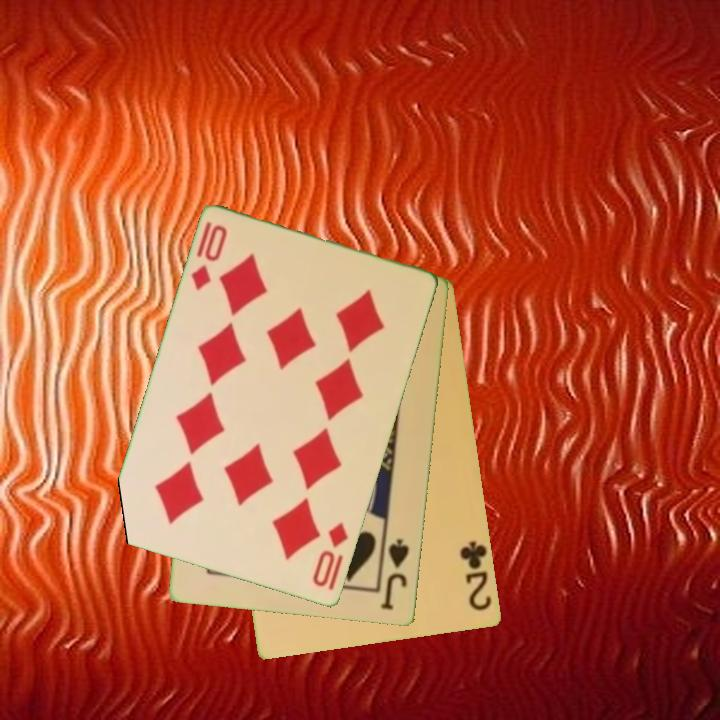10d: (309, 518, 352, 594), (187, 222, 231, 294)
2c: (456, 538, 495, 614)
Js: (377, 536, 412, 614)
